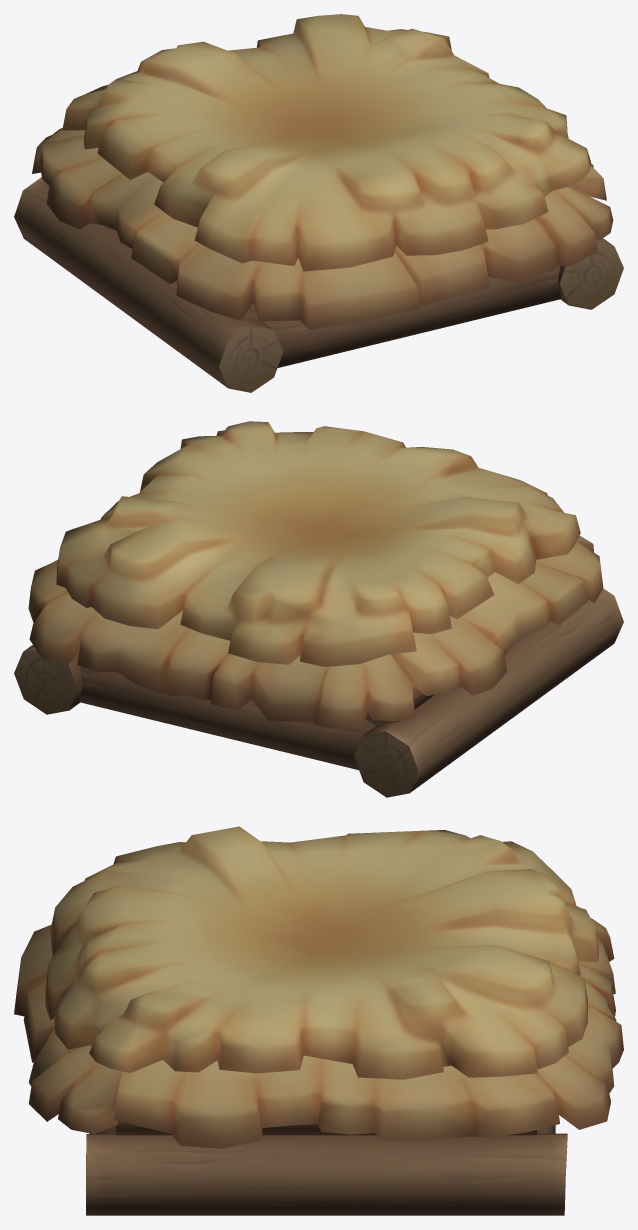
Rendered from BLD_Incubator_A.fbx.
The picture shows the model from 3 angles, top to bottom: view 1: azimuth 30°, elevation 25°; view 2: azimuth 150°, elevation 25°; view 3: azimuth 270°, elevation 25°; orthographic projection. The views are drawn at different scales.
Parts seen in each view (by area): view 1: BLD_Incubator_A; view 2: BLD_Incubator_A; view 3: BLD_Incubator_A.
Part boxes in pixels (x1,y1,x2,y2): BLD_Incubator_A: [14, 14, 623, 392]; BLD_Incubator_A: [14, 421, 623, 797]; BLD_Incubator_A: [14, 826, 623, 1215].
Size of the model in its own units: 51.08 by 19.85 by 52.99.
